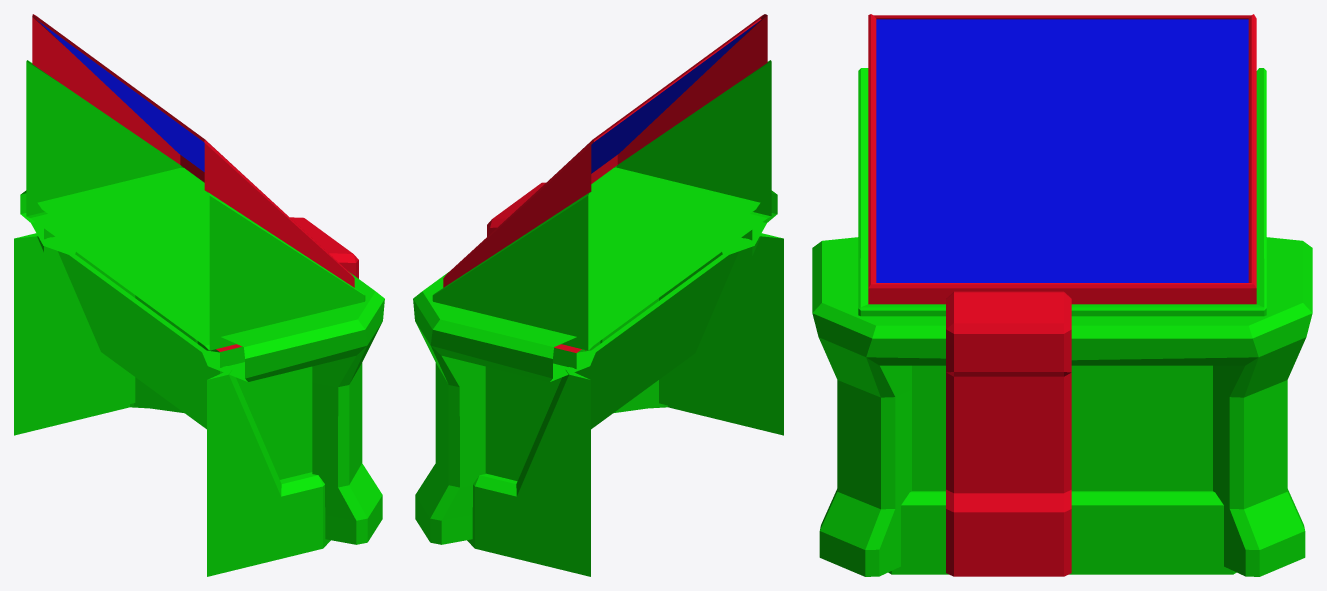
The model's file is Kiosk.fbx.
3 views of the same model, side by side, from view 1: azimuth 30°, elevation 25°; view 2: azimuth 150°, elevation 25°; view 3: azimuth 270°, elevation 25° (orthographic). The views are drawn at different scales.
Visible parts, largest first — view 1: Cube.031; view 2: Cube.031; view 3: Cube.031.
Part boxes in pixels (bbox=[...]): Cube.031: bbox=[14, 14, 384, 576]; Cube.031: bbox=[413, 14, 783, 576]; Cube.031: bbox=[812, 14, 1312, 576].
Bounding box in the file's own units: 0.8456 × 1.65 × 1.73.
